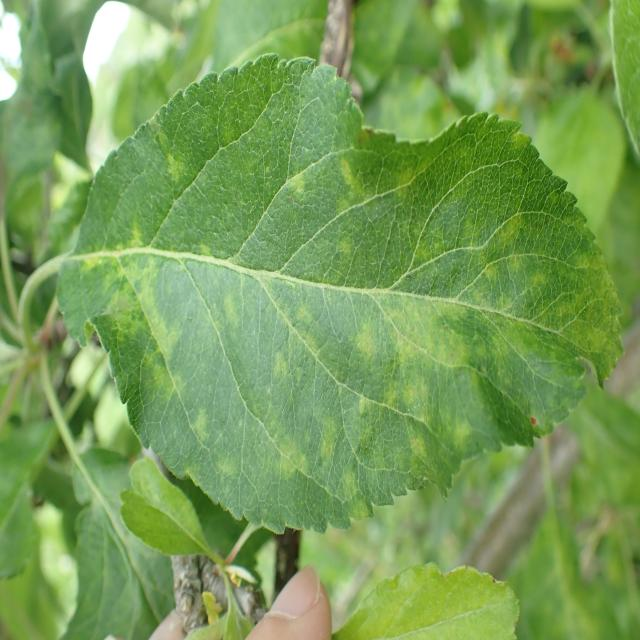scab: (74, 118, 620, 514)
